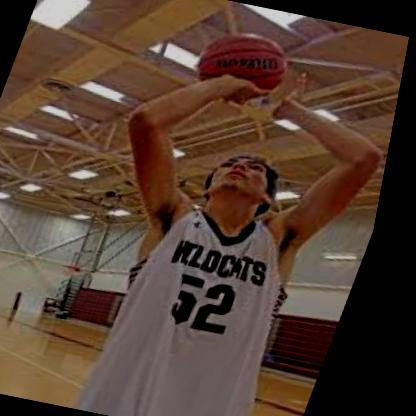basketball: (190, 25, 301, 106)
